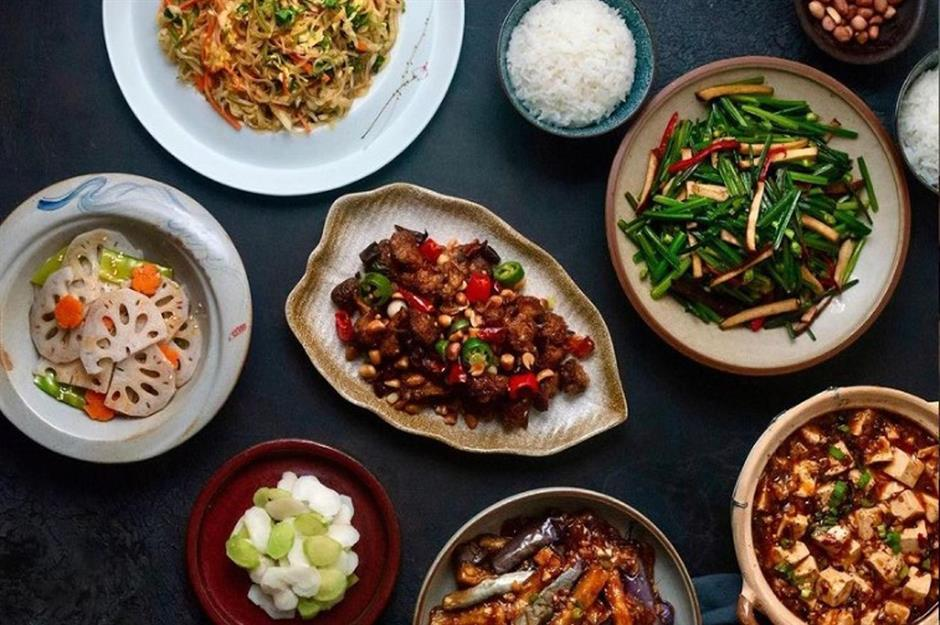Braised Crucian Carp: (606, 53, 909, 373), (286, 185, 623, 457), (2, 173, 254, 465), (103, 0, 453, 200), (725, 385, 939, 622), (409, 485, 697, 622)
